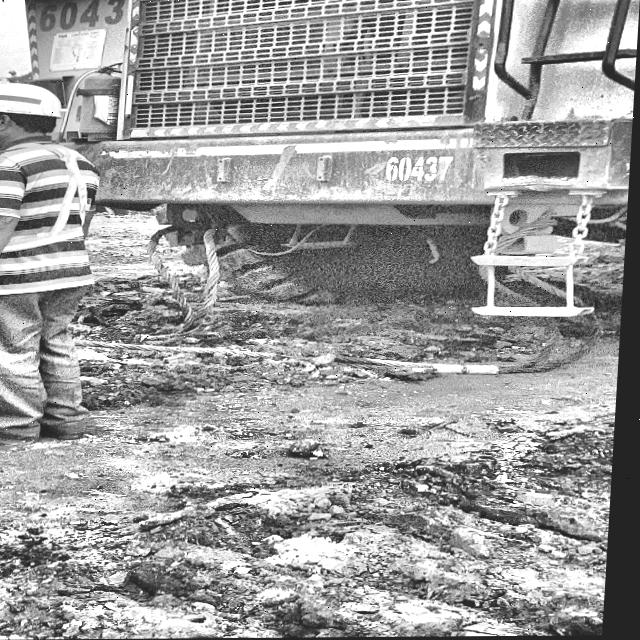dump_truck: (0, 0, 640, 388)
